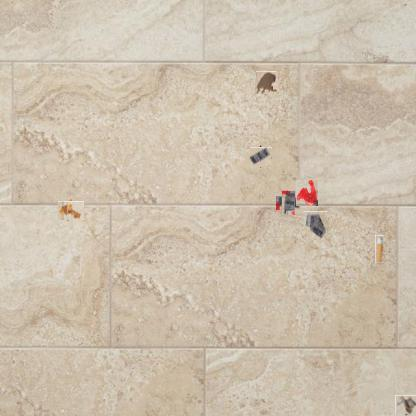dirty: (303, 213, 330, 239), (60, 199, 83, 222), (395, 394, 416, 415), (251, 146, 272, 167), (279, 193, 298, 213), (375, 235, 384, 262)
liquid: (296, 180, 318, 206), (255, 72, 278, 94)
